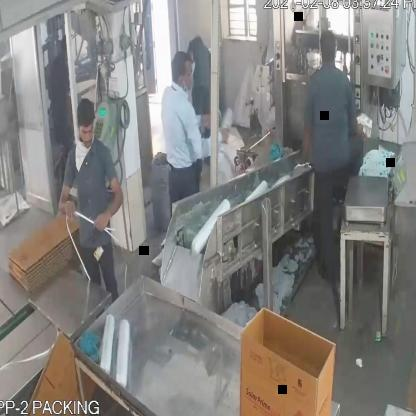no_glove: (93, 156, 130, 238), (54, 169, 81, 227)
